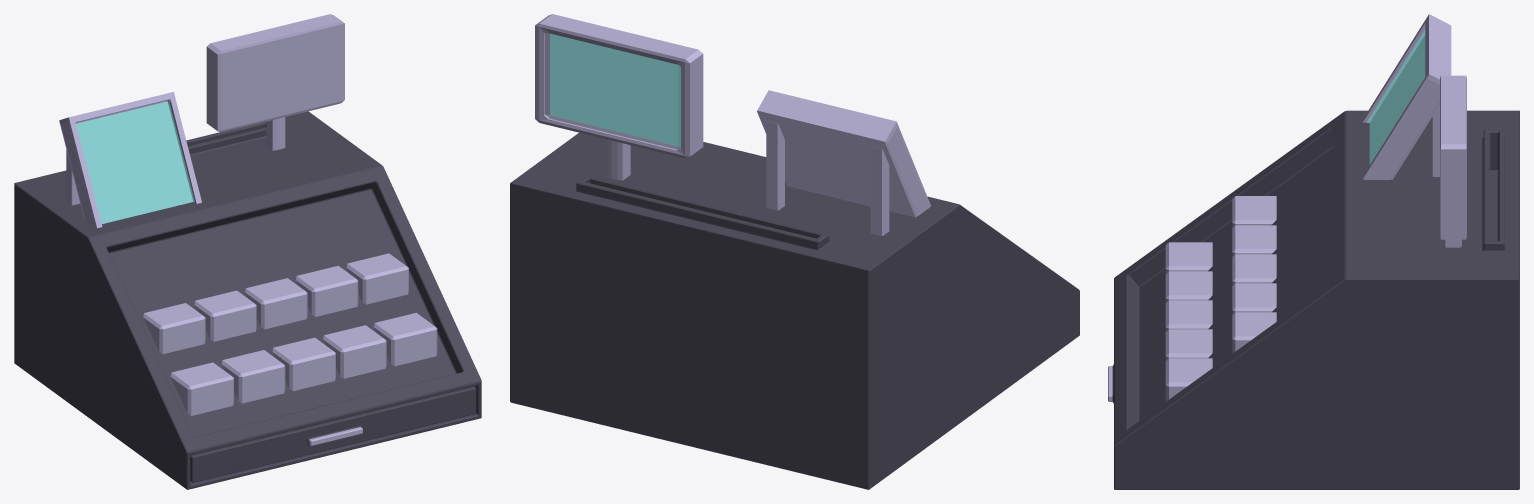
Rendered from kasse.fbx.
3 views of the same model, side by side, from view 1: azimuth 30°, elevation 25°; view 2: azimuth 150°, elevation 25°; view 3: azimuth 270°, elevation 25° (orthographic). The views are drawn at different scales.
Visible parts, largest first — view 1: Cube, Cube.009, Cube.013, Cube.015; view 2: Cube, Cube.015, Cube.013; view 3: Cube, Cube.009, Cube.013, Cube.015.
Boxes of the visible parts, left/top/right/bottom form: Cube: left=14, top=111, right=481, bottom=489; Cube.009: left=143, top=253, right=437, bottom=415; Cube.013: left=59, top=92, right=201, bottom=228; Cube.015: left=206, top=14, right=344, bottom=150; Cube: left=510, top=132, right=1079, bottom=489; Cube.015: left=535, top=14, right=703, bottom=180; Cube.013: left=757, top=90, right=930, bottom=235; Cube: left=1108, top=110, right=1519, bottom=489; Cube.009: left=1165, top=196, right=1276, bottom=401; Cube.013: left=1362, top=14, right=1451, bottom=179; Cube.015: left=1440, top=75, right=1466, bottom=247.
Size of the model in its own units: 6.13 by 5.8 by 6.27.
